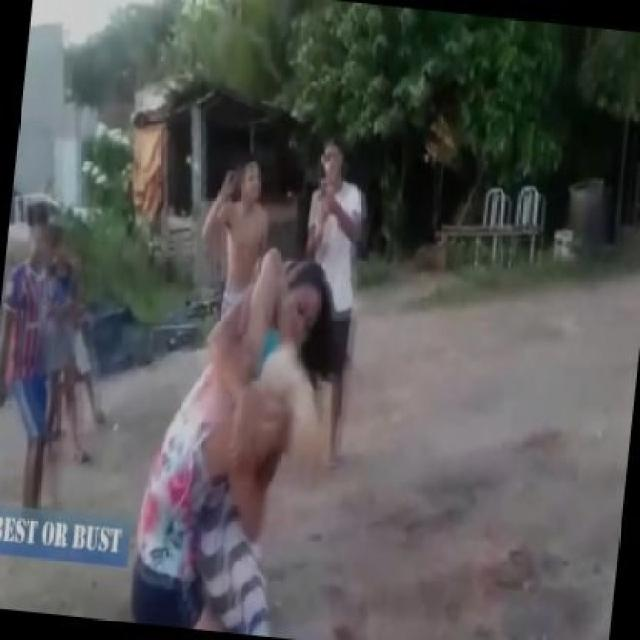fight: (116, 248, 331, 640)
